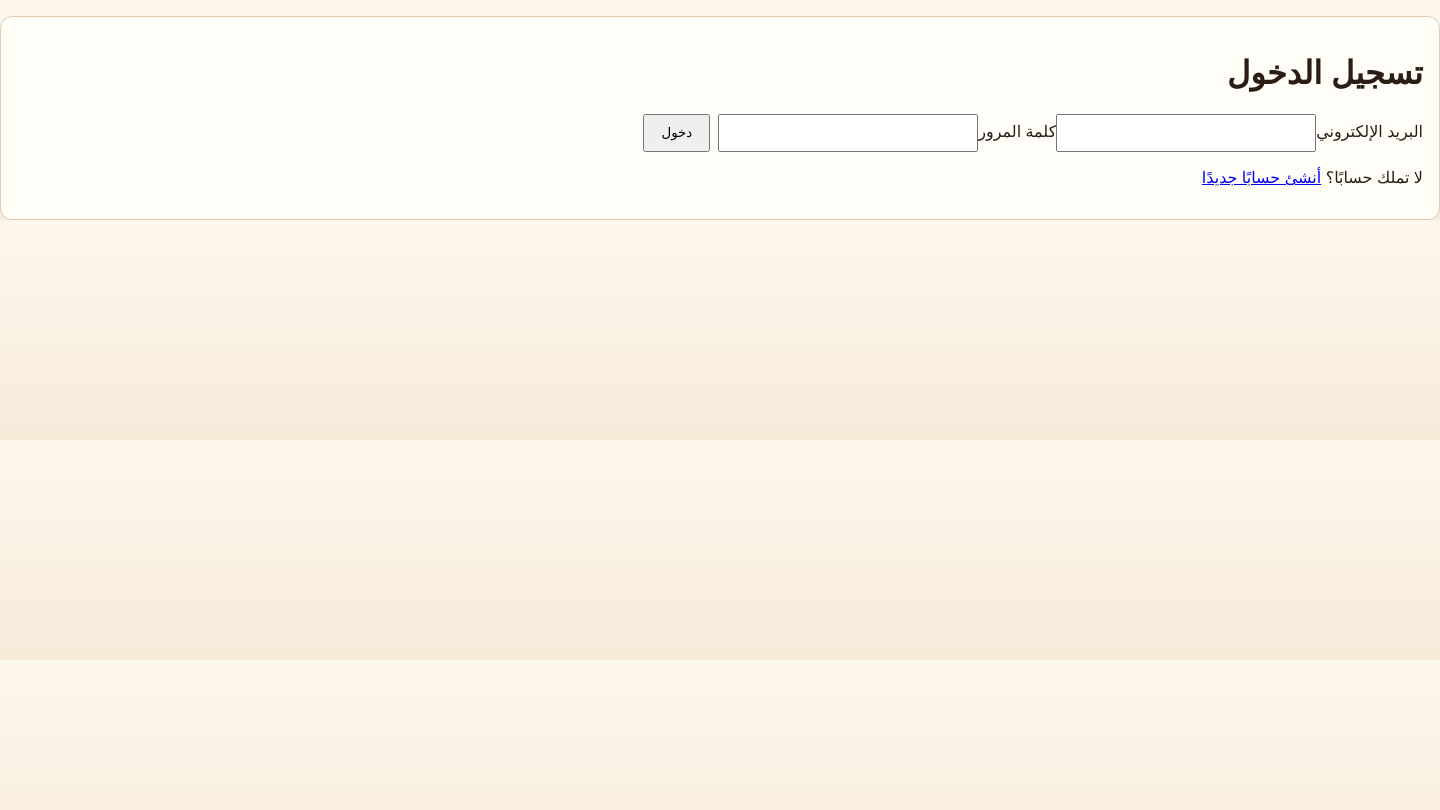
Test: صفحة تسجيل الدخول — التعامل مع تحدي 2FA › يعرض خطوة إدخال رمز التحقق عند استلام requires2FA بدل التوجيه المباشر
The image size is (1440, 810).
Type "owner@rawaya.test" into the field labelled "البريد الإلكتروني" at (1186, 133), box left=1056, top=114, right=1316, bottom=152
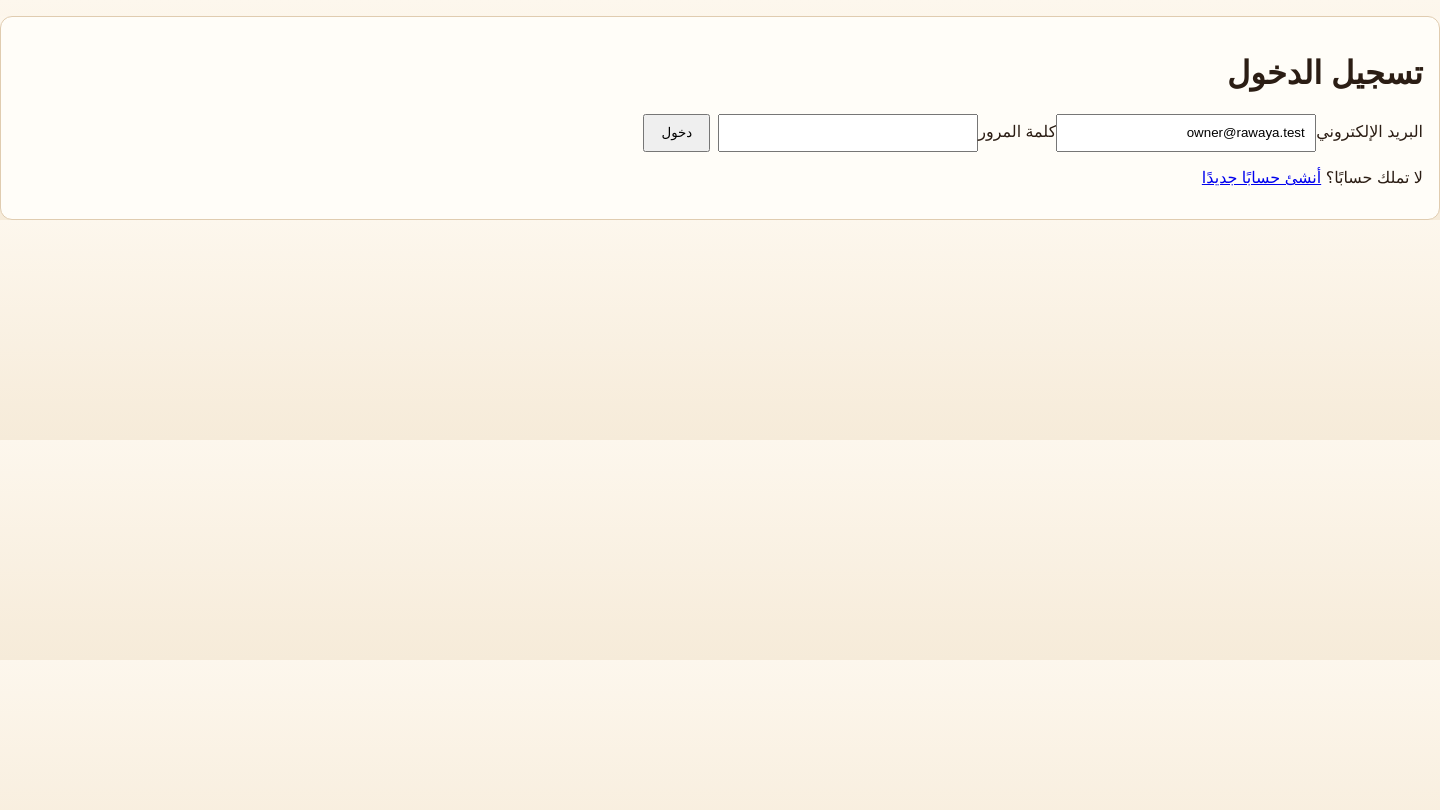
Type "P@ssw0rd123" into the password field labelled "كلمة المرور" at (848, 133), box left=718, top=114, right=978, bottom=152
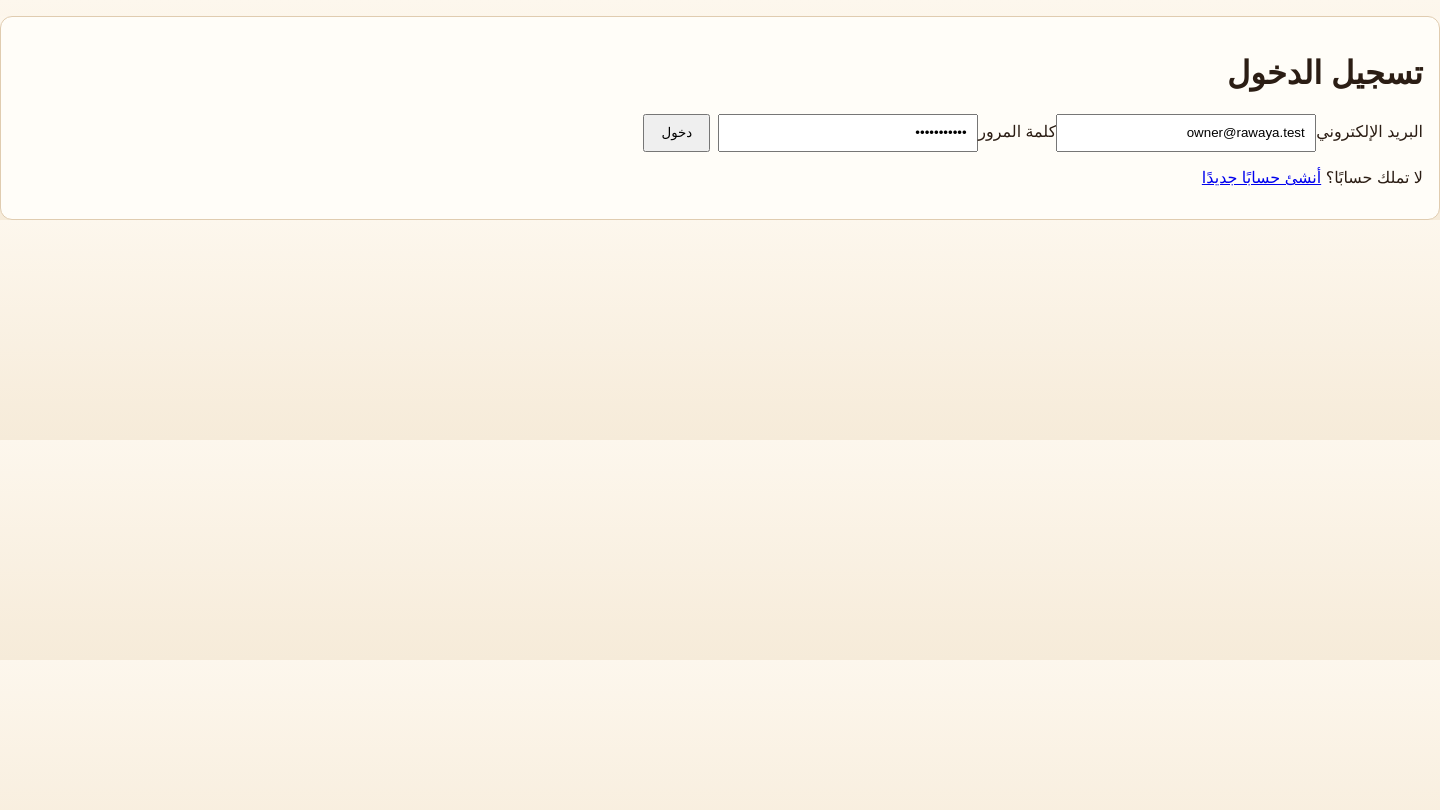
Click the button "دخول" at (677, 133), box left=644, top=114, right=710, bottom=152
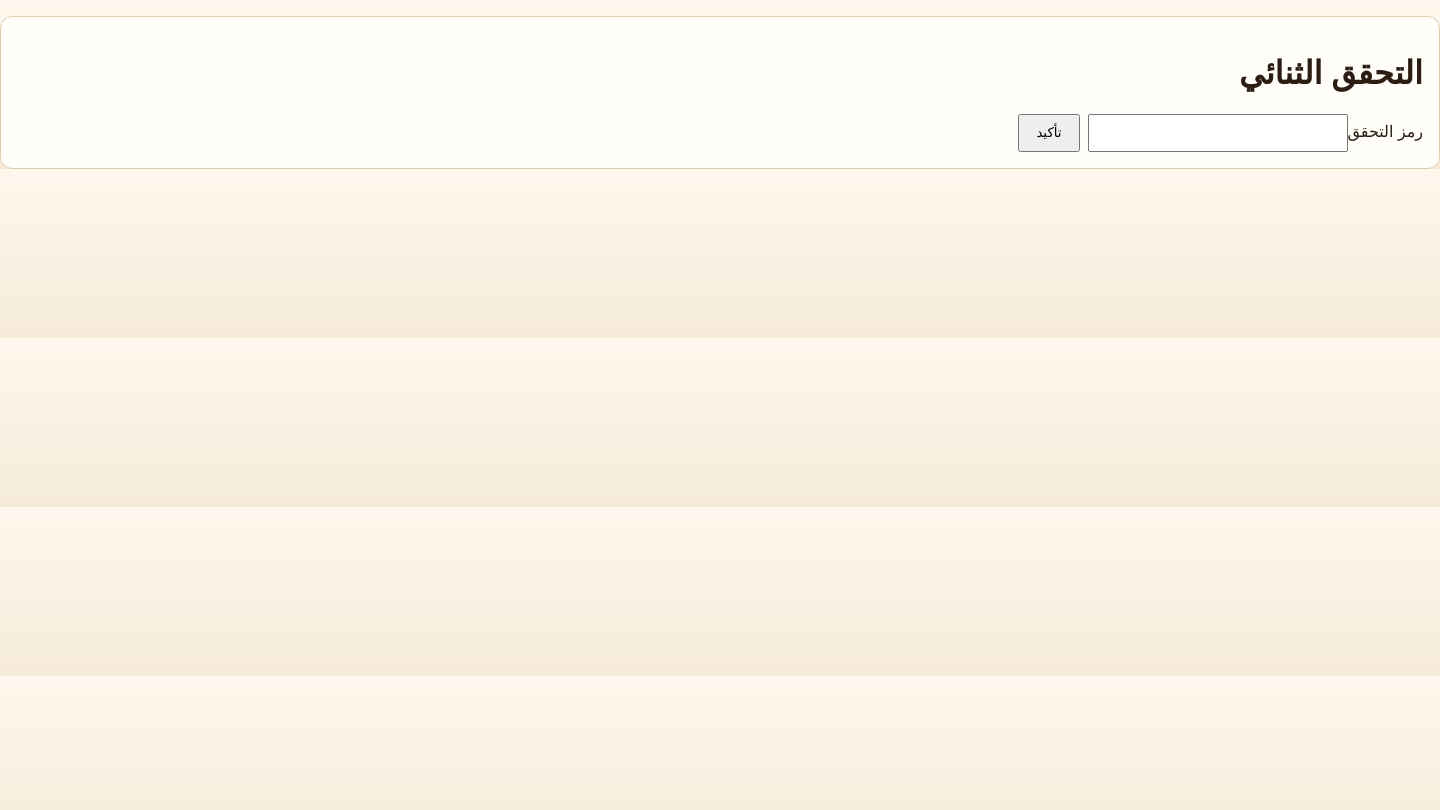
Check: the heading "التحقق الثنائي" is shown, box left=1239, top=55, right=1423, bottom=91
